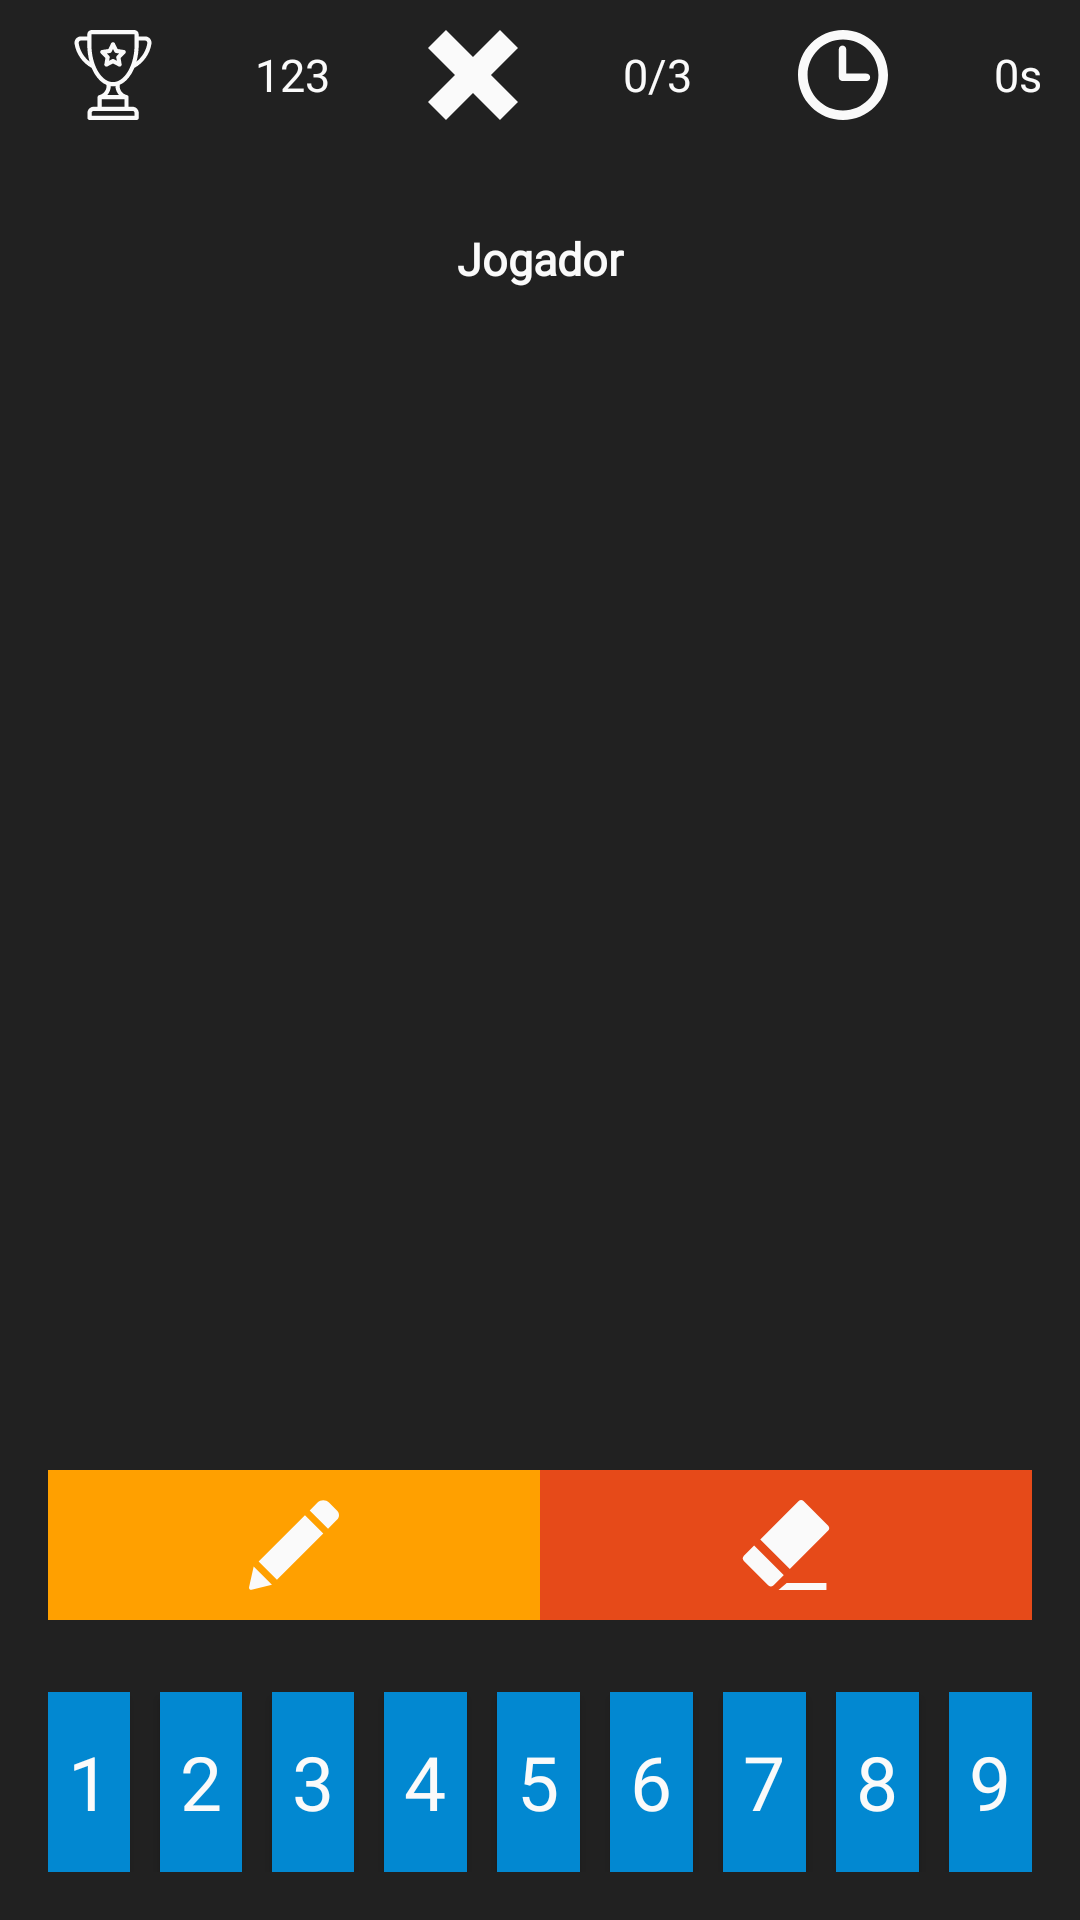

Named icons in this screenshot (1080 × 1920) and their bounding boxes, rect(x1, y1, x2, y2):
clock circular: rect(798, 30, 888, 120)
error: rect(428, 30, 518, 120)
trophy: rect(74, 30, 152, 120)
